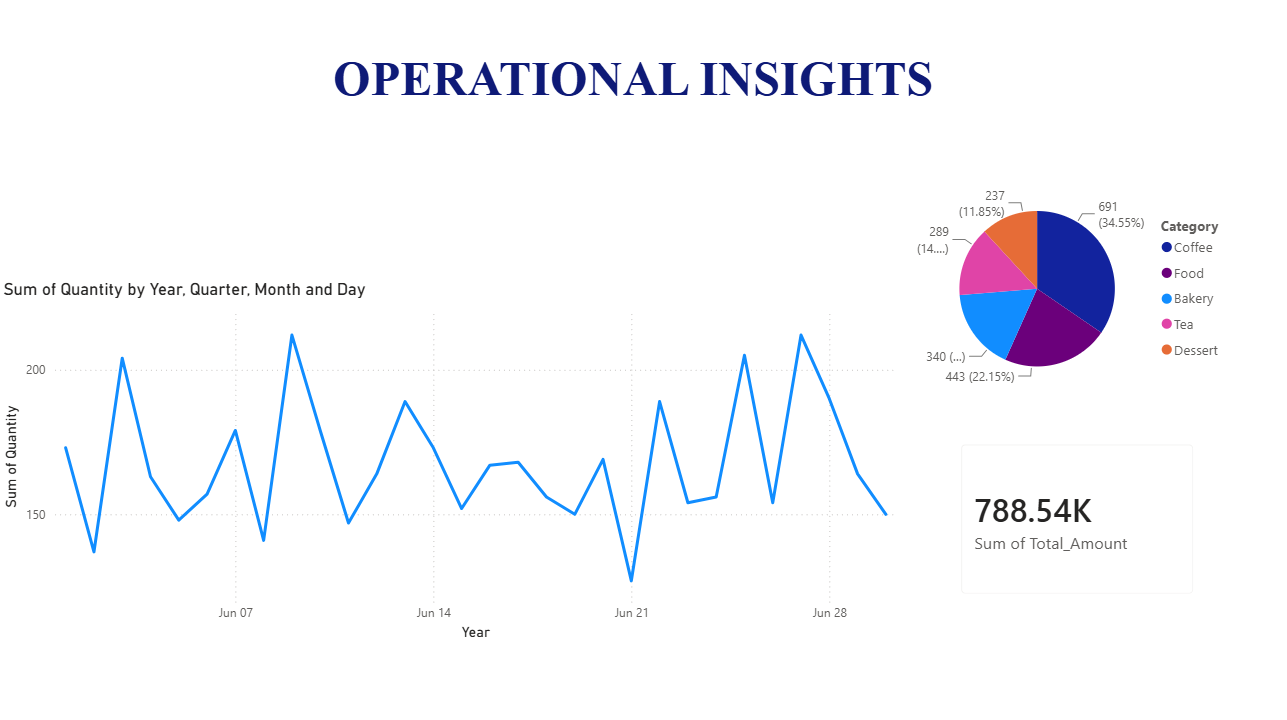

The page's visual inventory and layout, read from the dashboard file:
{"tool":"powerbi","page":{"name":"Page 2","canvas":[1280,720],"ordinal":1},"visuals":[{"type":"lineChart","fields":{"Y":["Sum(Cafe Sales.Quantity)"],"Category":["Cafe Sales.Date.Variation.Date Hierarchy.Year","Cafe Sales.Date.Variation.Date Hierarchy.Quarter","Cafe Sales.Date.Variation.Date Hierarchy.Month","Cafe Sales.Date.Variation.Date Hierarchy.Day"]},"box":[0,278.6,902.9,363.6],"z":0},{"type":"pieChart","fields":{"Category":["Cafe Sales.Category"],"Y":["CountNonNull(Cafe Sales.Category)"]},"box":[902.9,145.5,330.7,266.2],"z":1000},{"type":"cardVisual","fields":{"Data":["Sum(Cafe Sales.Total_Amount)"]},"box":[937.2,424,264.8,182.5],"z":2000},{"type":"textbox","box":[48,46.7,1163.6,120.8],"z":3000}]}

Visuals, with their boxes in screenshot pixels (x1, y1, x2, y2), scaled from the page's 1280x720 canvas onto the 1287x720 screenshot:
lineChart - Sum(Cafe Sales.Quantity) x Cafe Sales.Date.Variation.Date Hierarchy.Year: <region>0, 279, 908, 642</region>
pieChart - Cafe Sales.Category x CountNonNull(Cafe Sales.Category): <region>908, 146, 1240, 412</region>
cardVisual - Sum(Cafe Sales.Total_Amount): <region>942, 424, 1209, 606</region>
textbox: <region>48, 47, 1218, 168</region>
